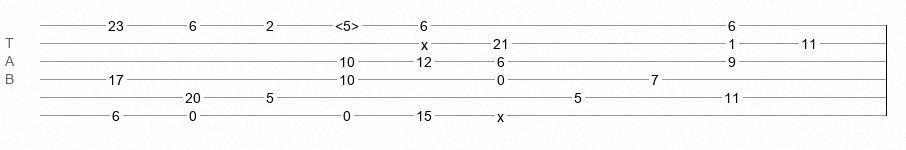0: (189, 108, 197, 118), (343, 108, 351, 118), (497, 72, 505, 82)
1: (728, 36, 736, 46)
10: (339, 54, 355, 64), (339, 72, 355, 82)
11: (724, 90, 740, 100), (801, 36, 817, 46)
12: (416, 54, 432, 64)
15: (416, 108, 432, 118)
17: (108, 72, 124, 82)
2: (266, 18, 274, 28)
20: (185, 90, 201, 100)
21: (493, 36, 509, 46)
23: (108, 18, 124, 28)
5: (266, 90, 274, 100), (574, 90, 582, 100)
6: (112, 108, 120, 118), (189, 18, 197, 28), (420, 18, 428, 28), (497, 54, 505, 64), (728, 18, 736, 28)
7: (651, 72, 659, 82)
9: (728, 54, 736, 64)
harmonic: (335, 18, 359, 28)
x: (421, 37, 428, 45), (497, 109, 504, 117)
